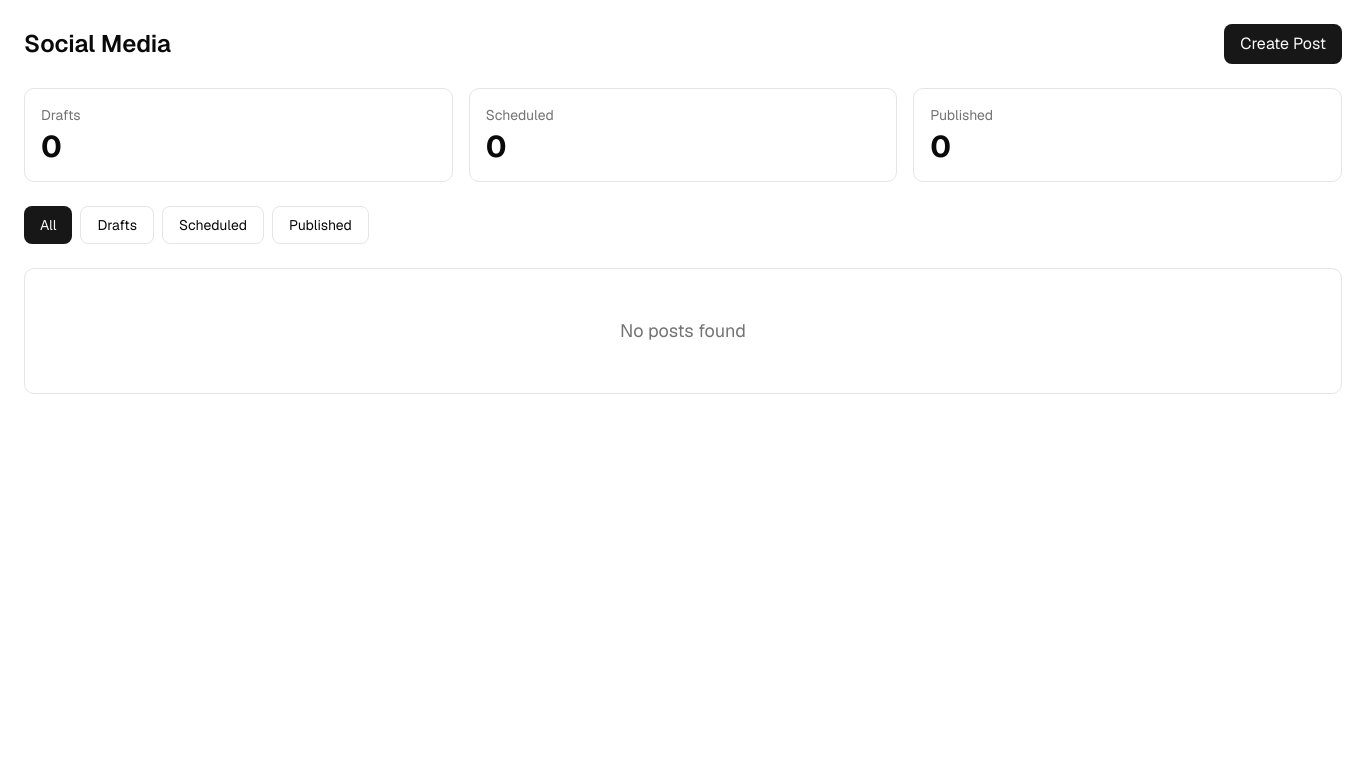
SocialMedia › adds a new draft post
The width and height of the screenshot is (1366, 768).
// Open composer
Click the button "Create Post" at (1283, 44), box [1224,24,1342,64]
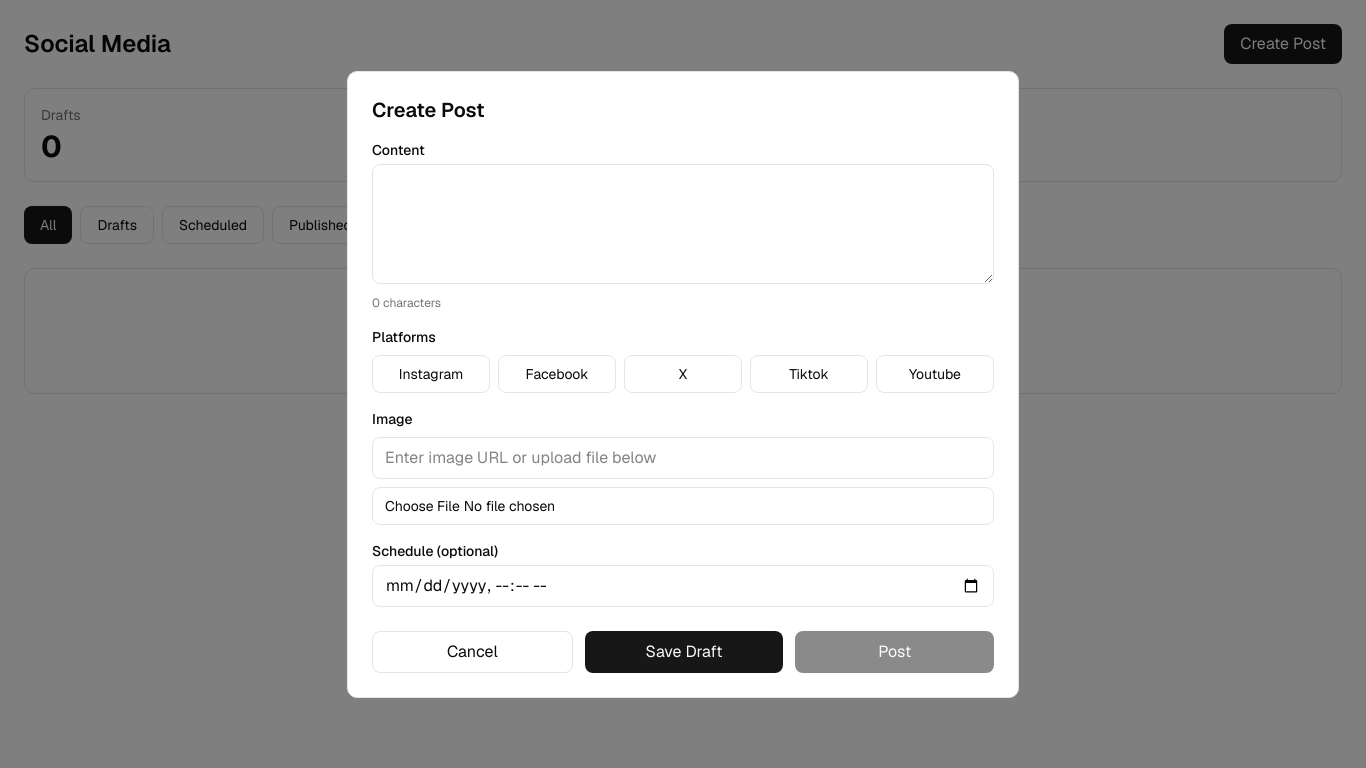
// Fill in form
Type "Test post content" into the text box at (683, 224), box [372,164,994,284]
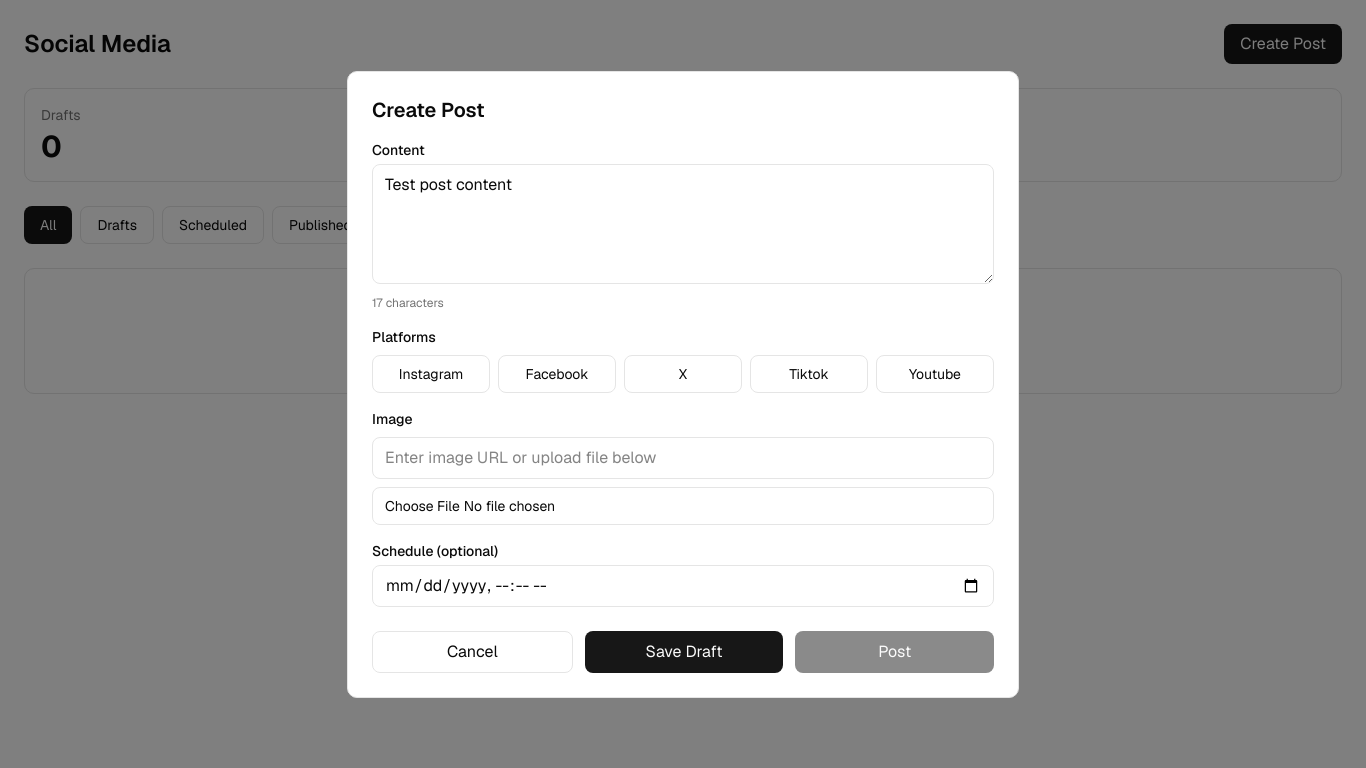
// Select platform
Click the button "instagram" at (431, 374), box [372,354,490,392]
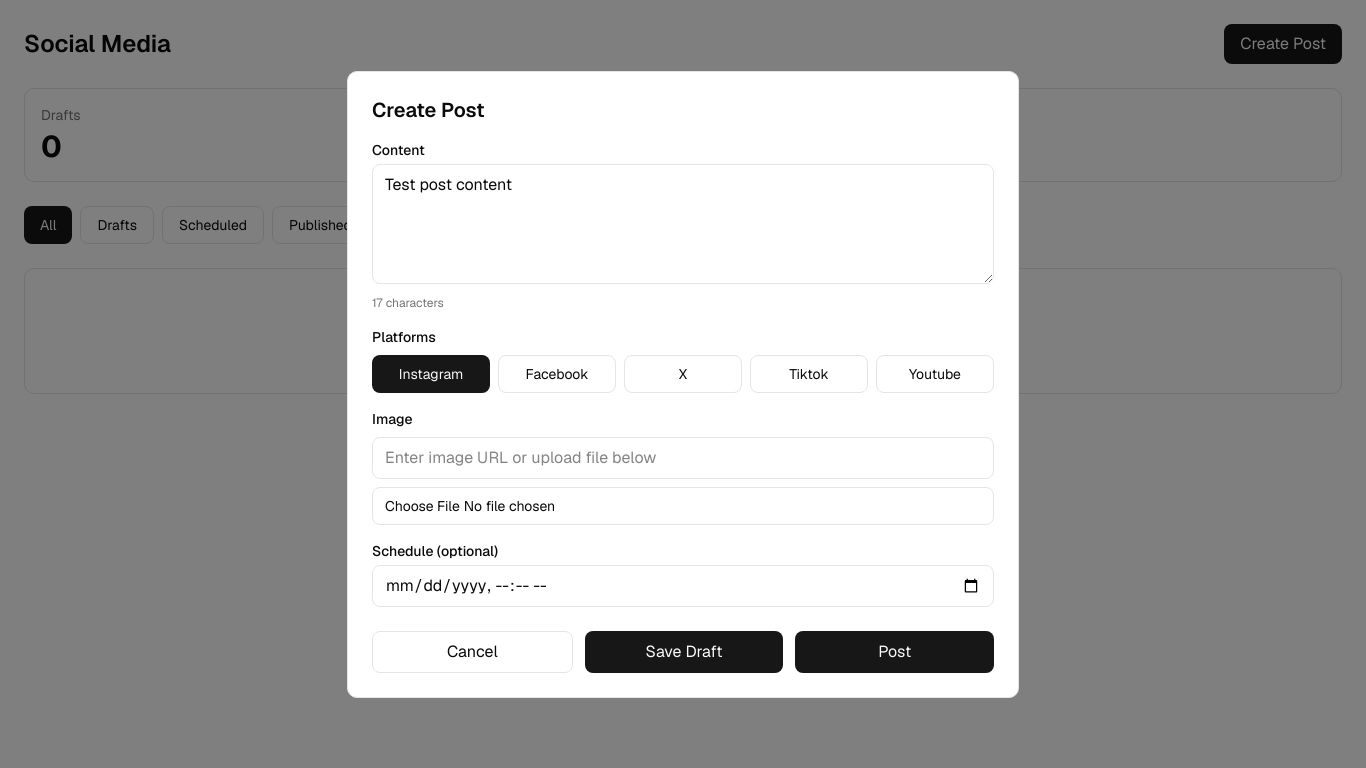
// Submit form
Submit the form, box [372,140,994,672]
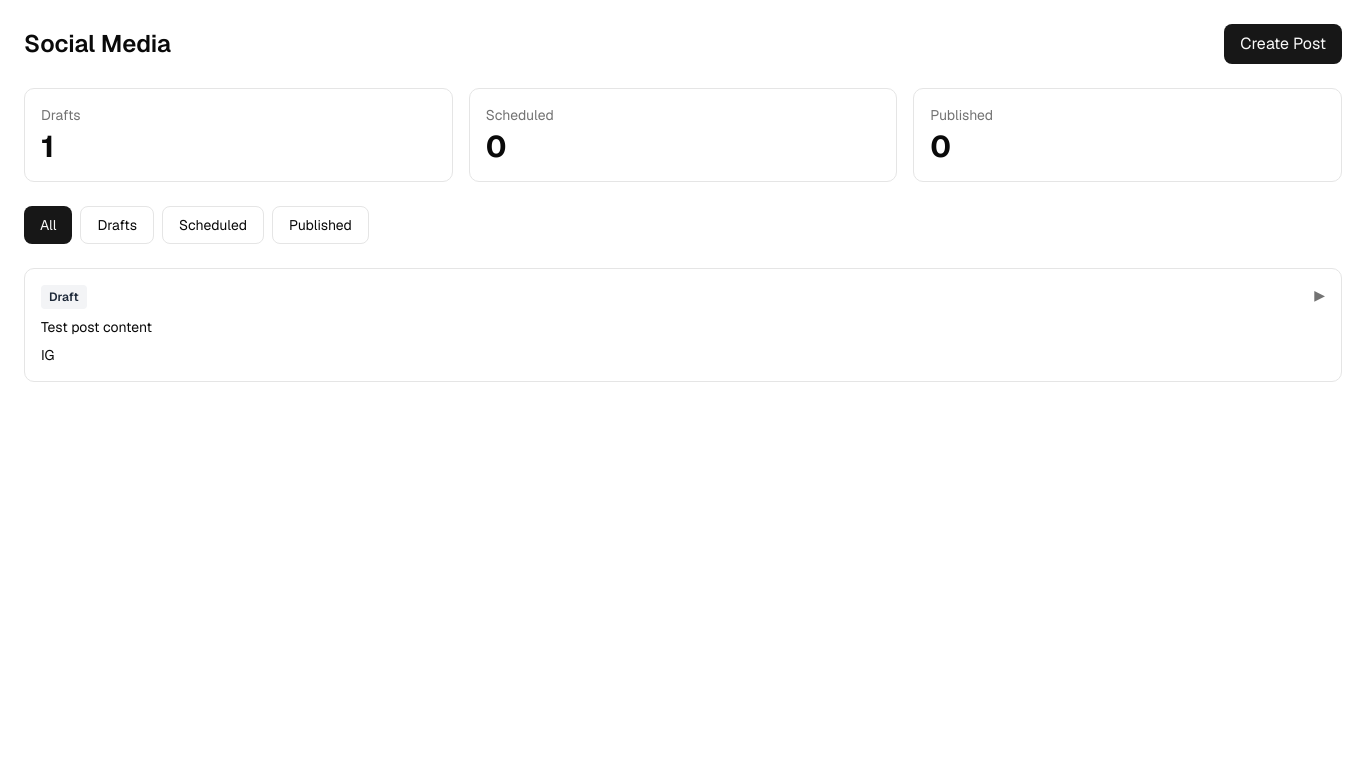
Check: the text "Test post content" is shown, box [41,318,152,336]
